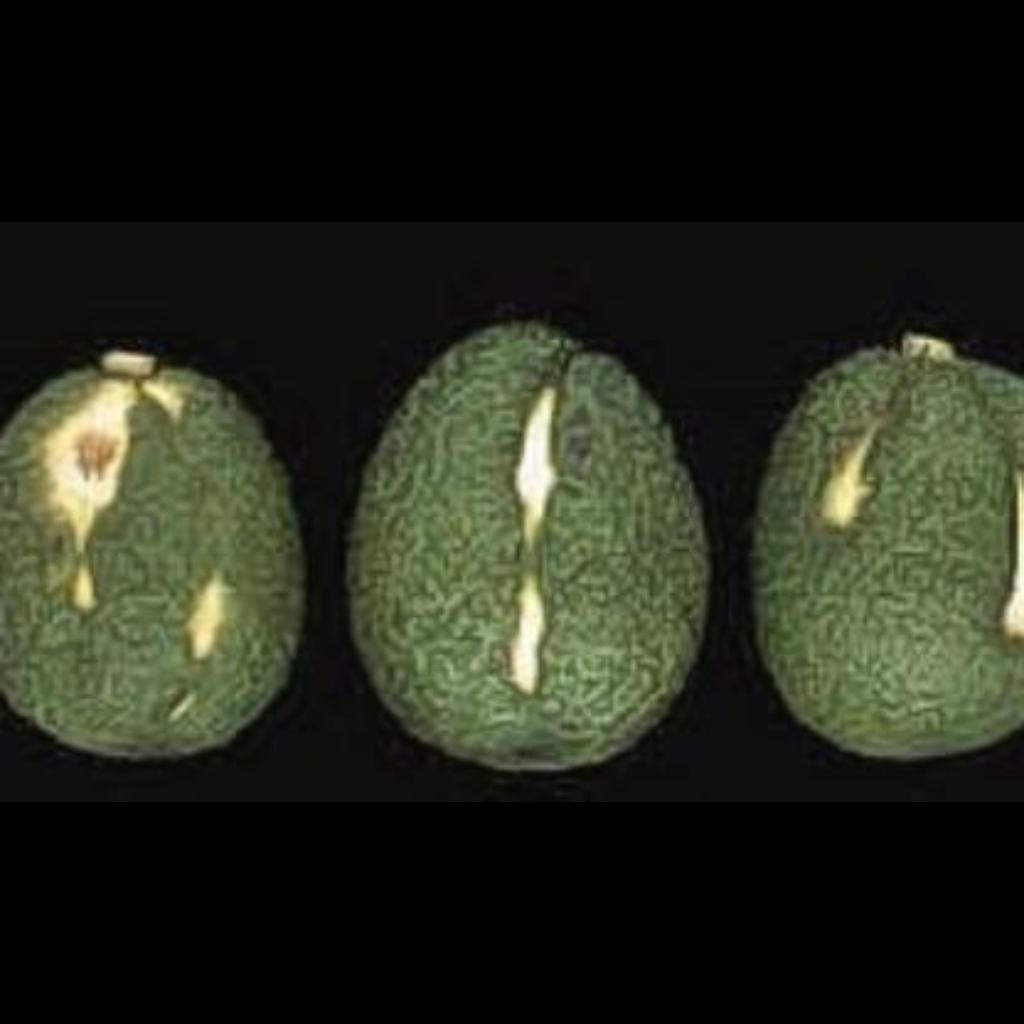sunblotch: (350, 362, 714, 766), (13, 358, 303, 776), (773, 363, 1012, 754)
